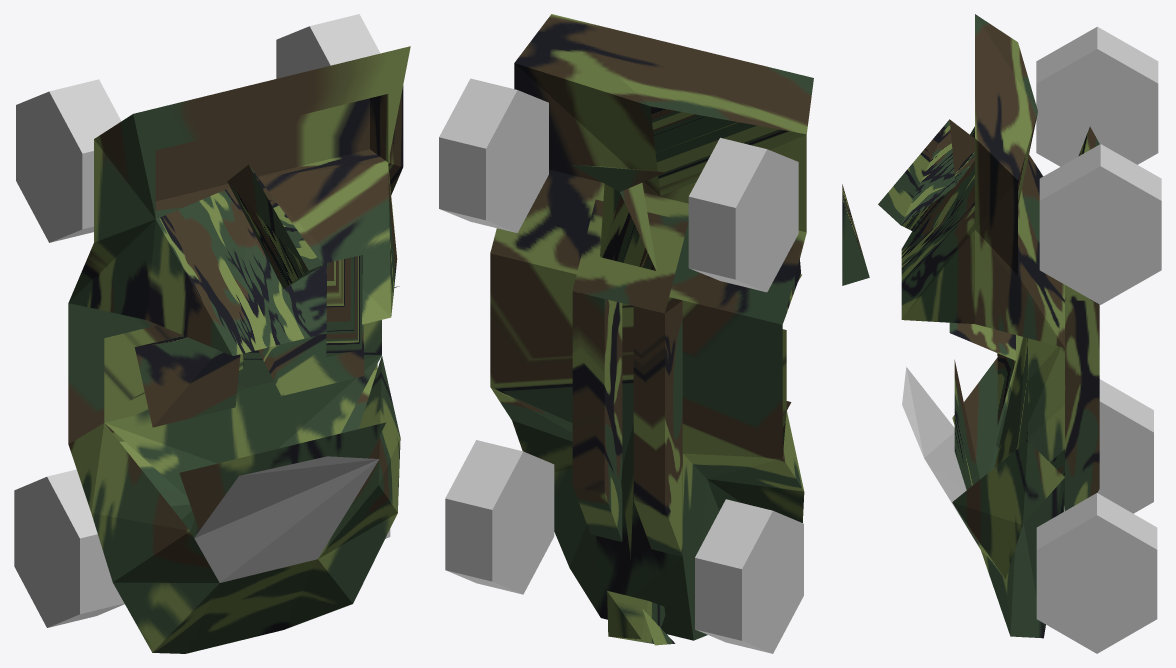
Rendered from BHWarthog1k7low_wtf.obj.
3 views of the same model, side by side, from view 1: azimuth 30°, elevation 25°; view 2: azimuth 150°, elevation 25°; view 3: azimuth 270°, elevation 25° (orthographic). The views are drawn at different scales.
Parts seen in each view (by area): view 1: group1, group2, group3; view 2: group1, group2; view 3: group1, group2, group3.
Part boxes in pixels (x1,y1,x2,y2): group1: (68, 46, 410, 653); group2: (14, 14, 390, 627); group3: (194, 456, 379, 582); group1: (490, 14, 813, 645); group2: (439, 78, 803, 653); group1: (842, 14, 1099, 638); group2: (1036, 26, 1161, 653); group3: (902, 367, 974, 539).
Size of the model in its own units: 370 by 660 by 353.
